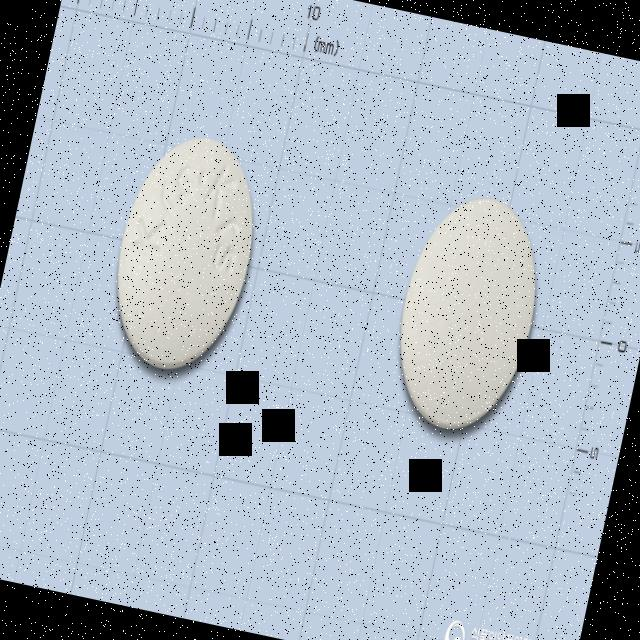Korus Ascorbic Acid: (96, 123, 274, 384)
